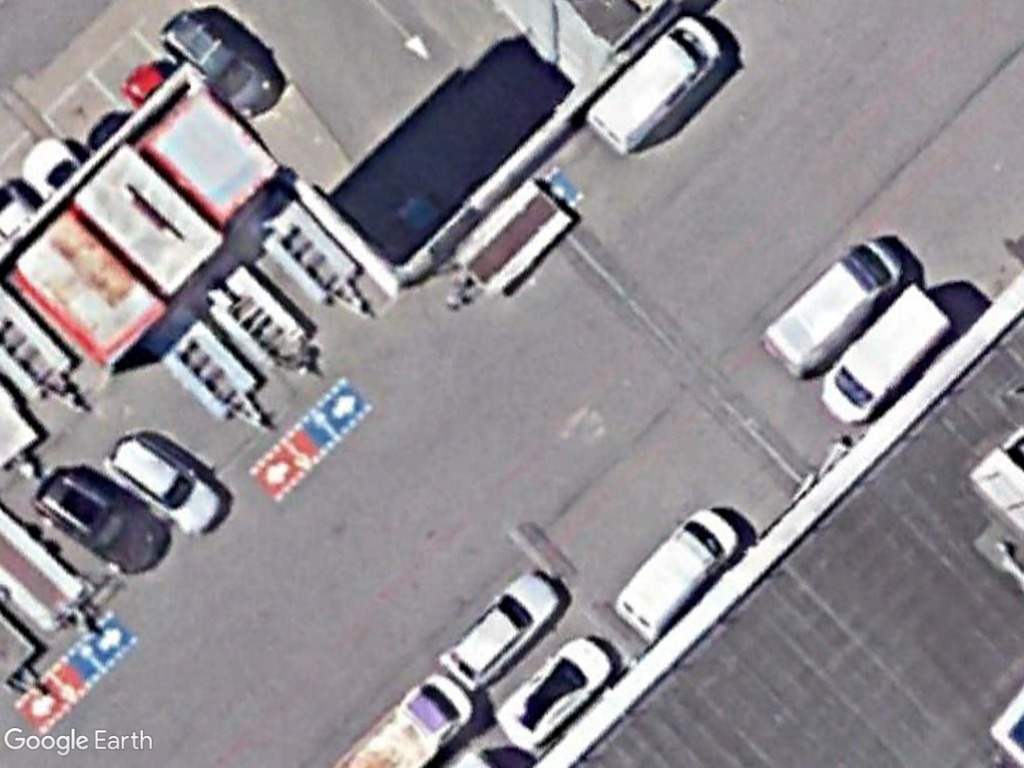car: (488, 626, 614, 760), (435, 569, 566, 696), (28, 467, 170, 575), (100, 431, 225, 535)
van: (761, 234, 908, 379), (586, 12, 724, 163), (819, 282, 954, 431), (608, 507, 742, 642)
